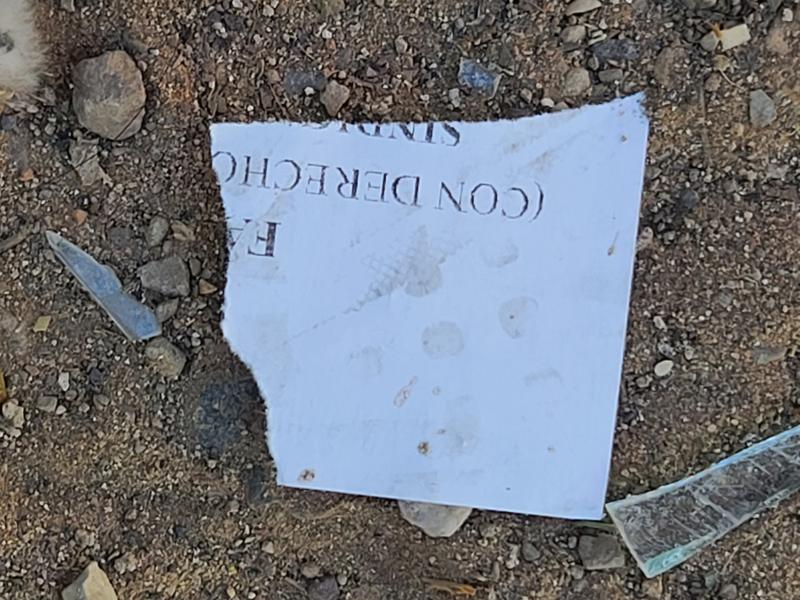papel: (209, 93, 648, 525)
